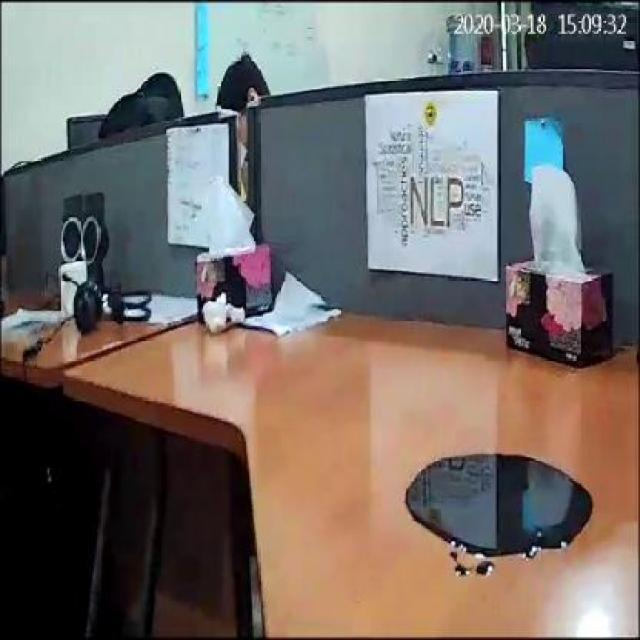spill: (406, 452, 596, 558)
